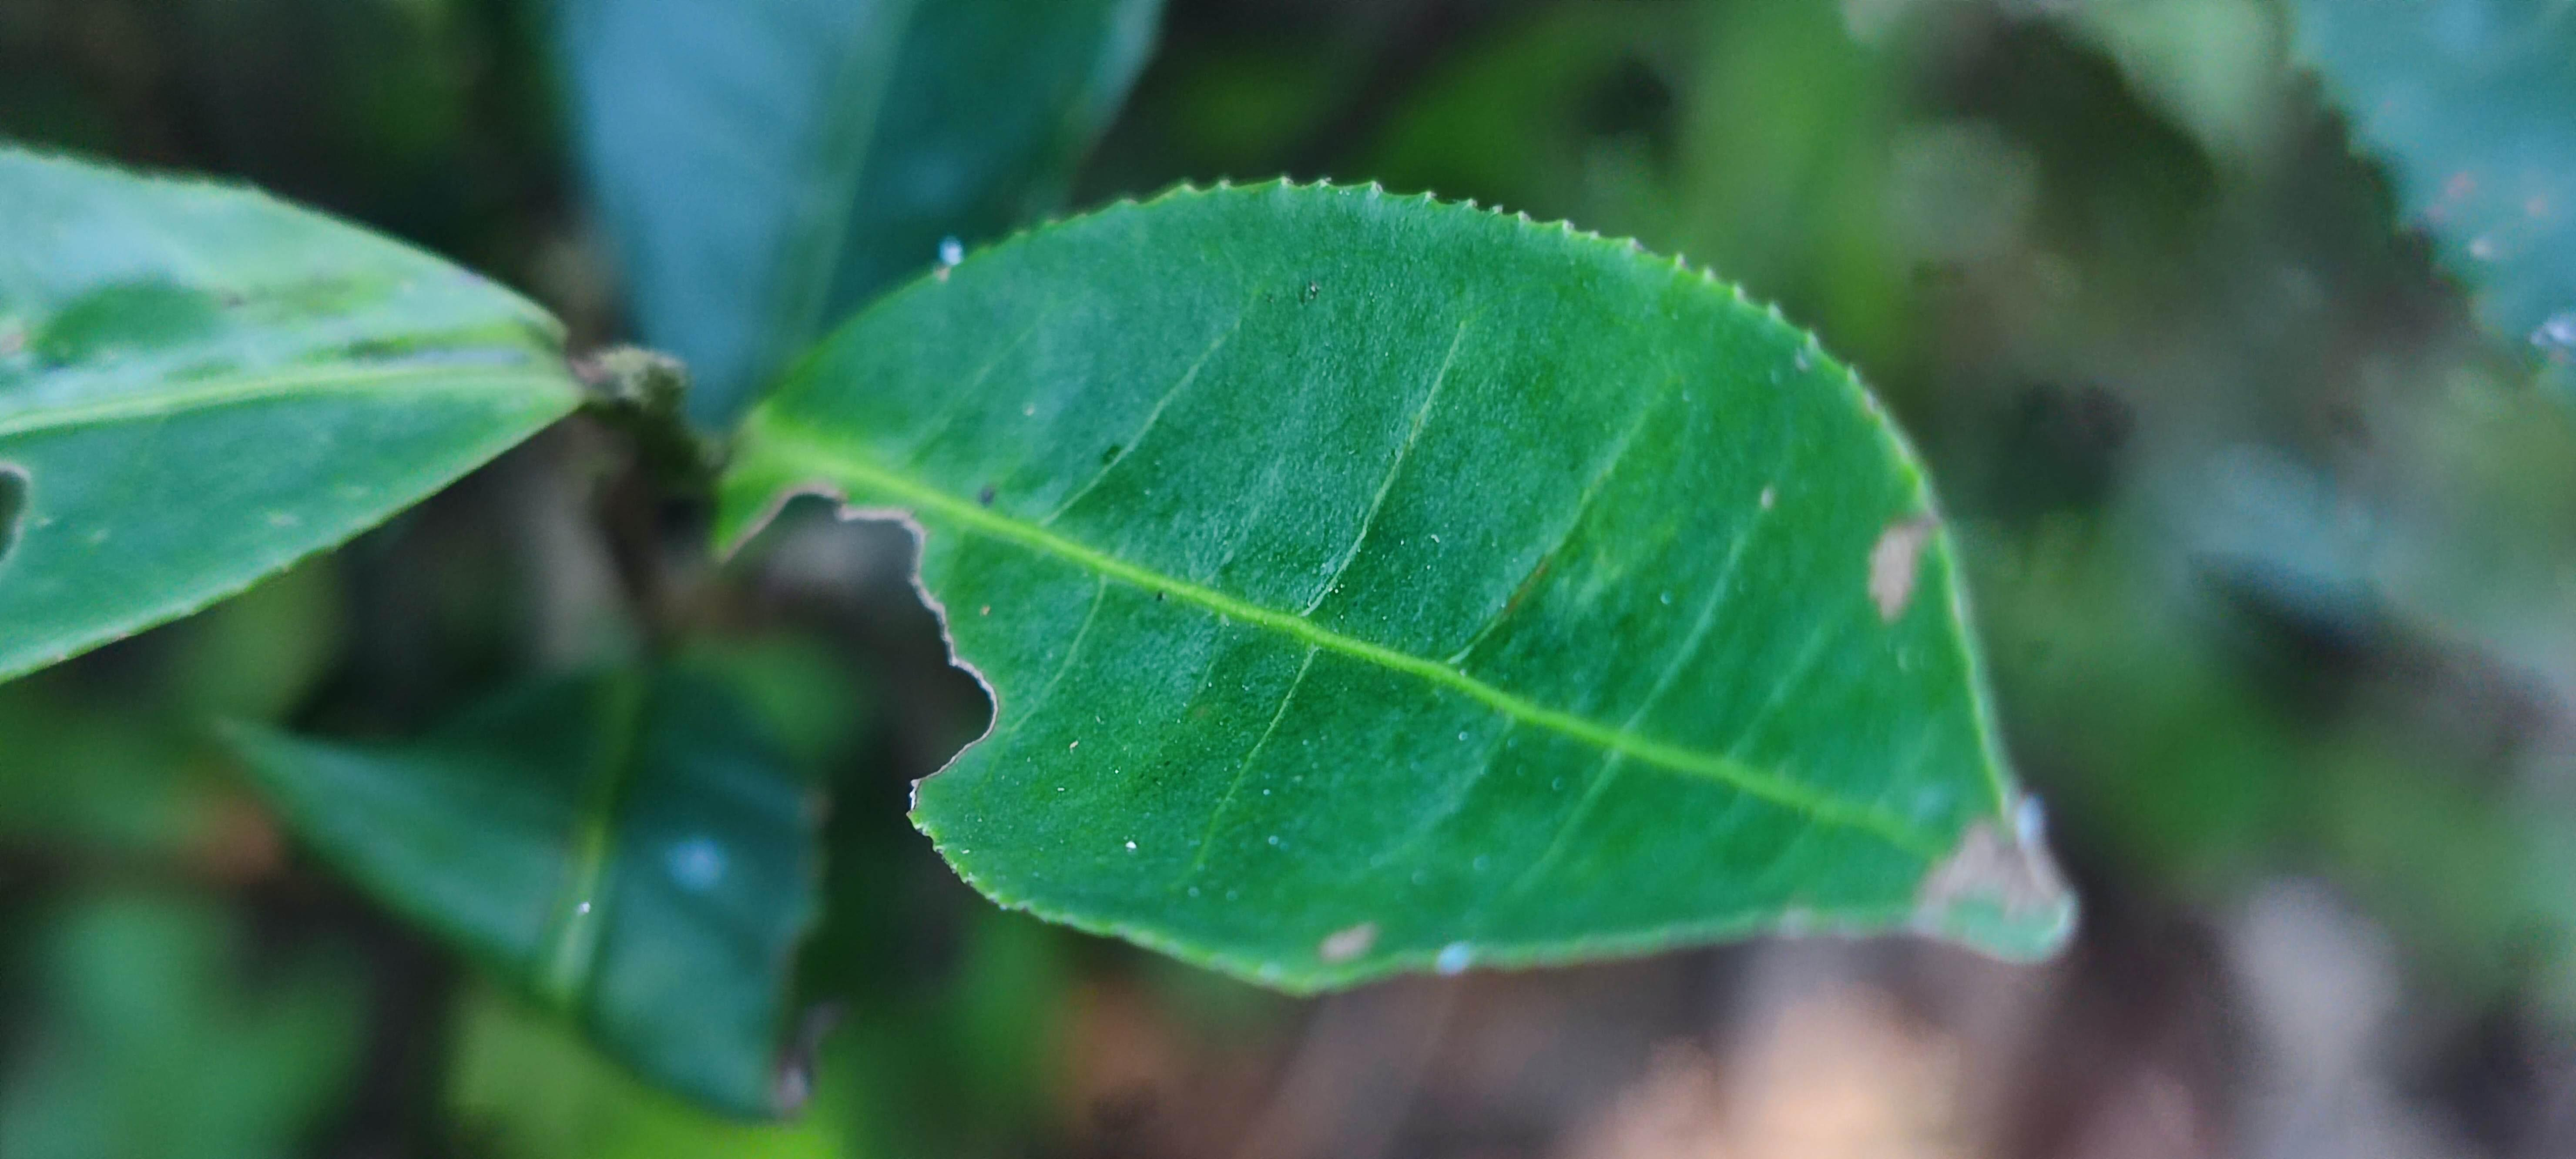chihuo_high: (703, 182, 2004, 996)
